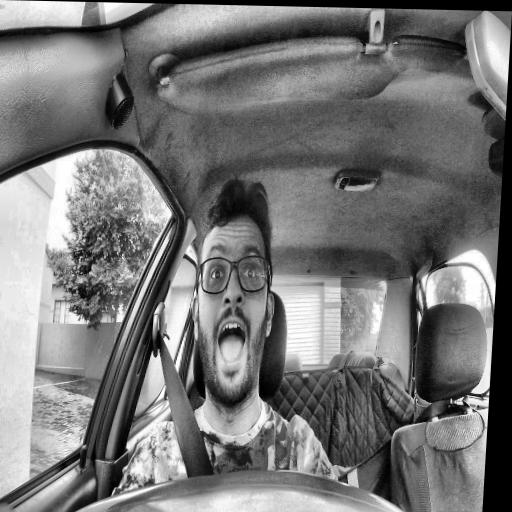awake: (184, 178, 282, 405)
